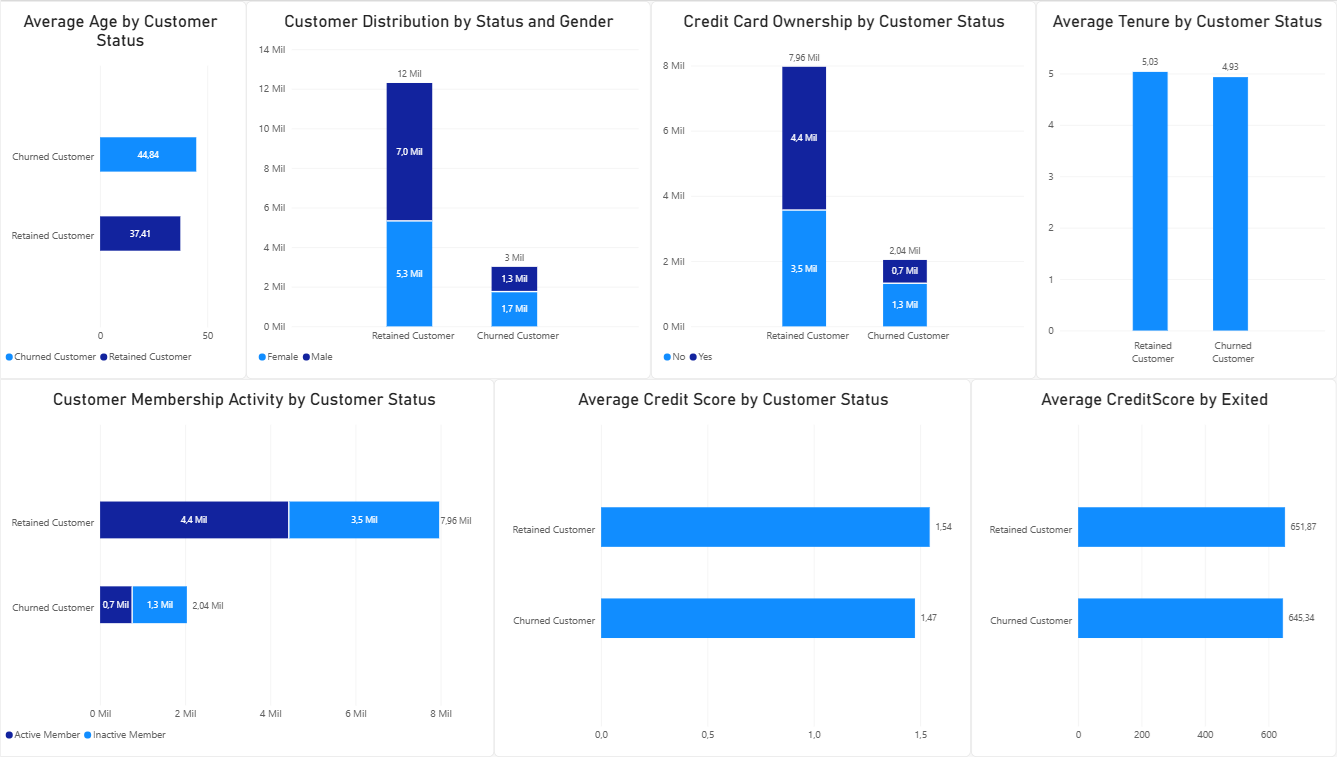

What the dashboard file says about the page in this screenshot:
{"tool":"powerbi","page":{"name":"Customer Profile & Churn Analysis","canvas":[1920,1080],"ordinal":0},"visuals":[{"type":"barChart","title":"Average Age by Customer Status","fields":{"Category":["DimCustomer.Customer Status"],"Series":["DimCustomer.Customer Status"],"Y":["Avg(DimCustomer.Age)"]},"box":[0,0,361.8,539.8],"z":0},{"type":"columnChart","title":"Credit Card Ownership by Customer Status","fields":{"Category":["DimCustomer.Customer Status"],"Series":["DimCustomer.HasCrCard"],"Y":["CountNonNull(DimCustomer.Geography)"]},"box":[939.6,0,550,539.8],"z":1000},{"type":"columnChart","title":"Average Tenure by Customer Status","fields":{"Category":["DimCustomer.Customer Status"],"Y":["Avg(DimCustomer.Tenure)"]},"box":[1489.6,0,430.4,539.8],"z":2000},{"type":"barChart","title":"Customer Membership Activity by Customer Status","fields":{"Category":["DimCustomer.Customer Status"],"Series":["DimCustomer.Membership Status"],"Y":["CountNonNull(DimCustomer.Membership Status)"]},"box":[0,539.8,716.4,539.8],"z":3000},{"type":"barChart","title":"Average Credit Score by Customer Status","fields":{"Category":["DimCustomer.Customer Status"],"Y":["Avg(DimCustomer.NumOfProducts)"]},"box":[716.4,539.8,681.3,539.8],"z":4000},{"type":"barChart","title":"Average CreditScore by Exited","fields":{"Category":["DimCustomer.Customer Status"],"Y":["Avg(DimCustomer.CreditScore)"]},"box":[1397.7,539.8,522.3,539.8],"z":5000},{"type":"columnChart","title":"Customer Distribution by Status and Gender","fields":{"Category":["DimCustomer.Customer Status"],"Series":["DimCustomer.Gender"],"Y":["Sum(DimCustomer.NumOfProducts)"]},"box":[361.8,0,577.8,539.8],"z":7000}]}

Visuals, with their boxes in screenshot pixels (x1, y1, x2, y2), scaled from the page's 1920x1080 canvas onto the 1337x757 screenshot:
"Average Age by Customer Status" barChart: box(0, 0, 252, 378)
"Credit Card Ownership by Customer Status" columnChart: box(654, 0, 1037, 378)
"Average Tenure by Customer Status" columnChart: box(1037, 0, 1336, 378)
"Customer Membership Activity by Customer Status" barChart: box(0, 378, 499, 756)
"Average Credit Score by Customer Status" barChart: box(499, 378, 973, 756)
"Average CreditScore by Exited" barChart: box(973, 378, 1336, 756)
"Customer Distribution by Status and Gender" columnChart: box(252, 0, 654, 378)
